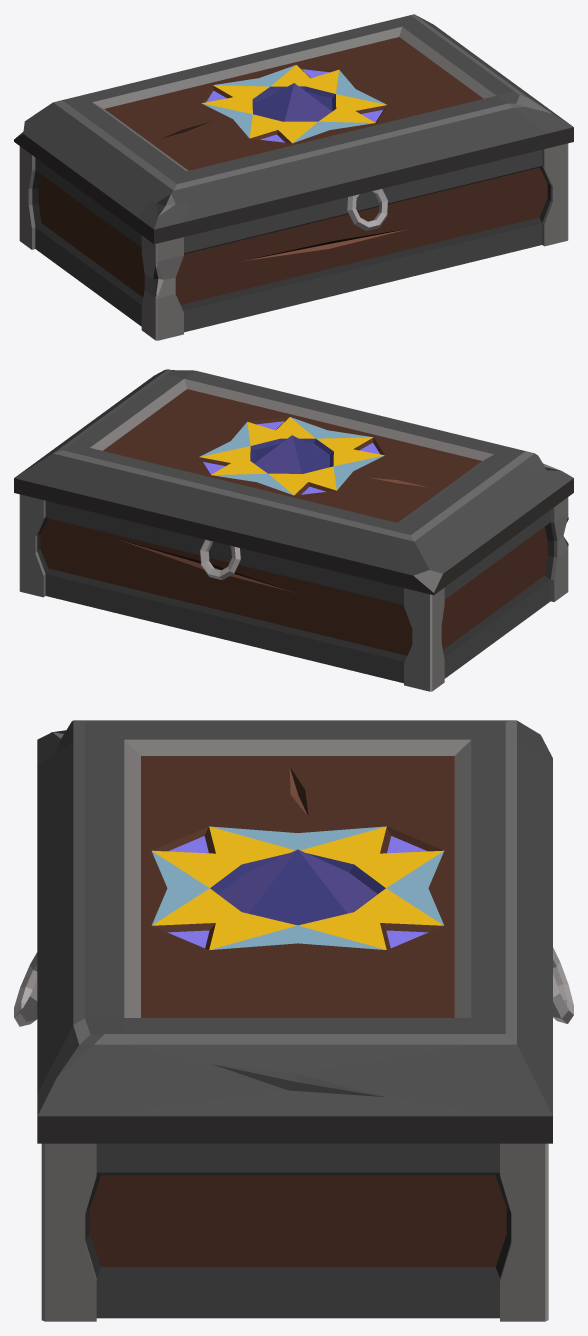
Rendered from Chest_Box_01.glb.
3 views of the same model, one above another, from view 1: azimuth 30°, elevation 25°; view 2: azimuth 150°, elevation 25°; view 3: azimuth 270°, elevation 25° (orthographic). The views are drawn at different scales.
Parts seen in each view (by area): view 1: Chest_Box_01; view 2: Chest_Box_01; view 3: Chest_Box_01.
Boxes of the visible parts, x1,y1,x2,y2 form: Chest_Box_01: [14, 14, 573, 340]; Chest_Box_01: [14, 369, 573, 691]; Chest_Box_01: [14, 720, 573, 1321].
Size of what is drawn, in the model's own units: 1.32 by 0.4718 by 0.8319.
Materials: 2 (2 with a texture image).
